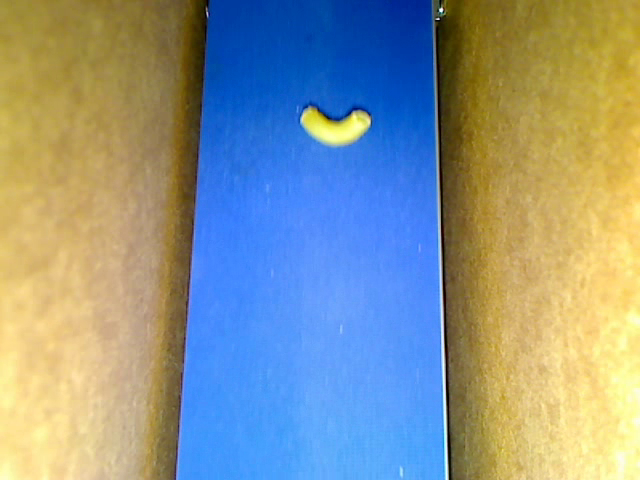elbow: (302, 104, 371, 148)
